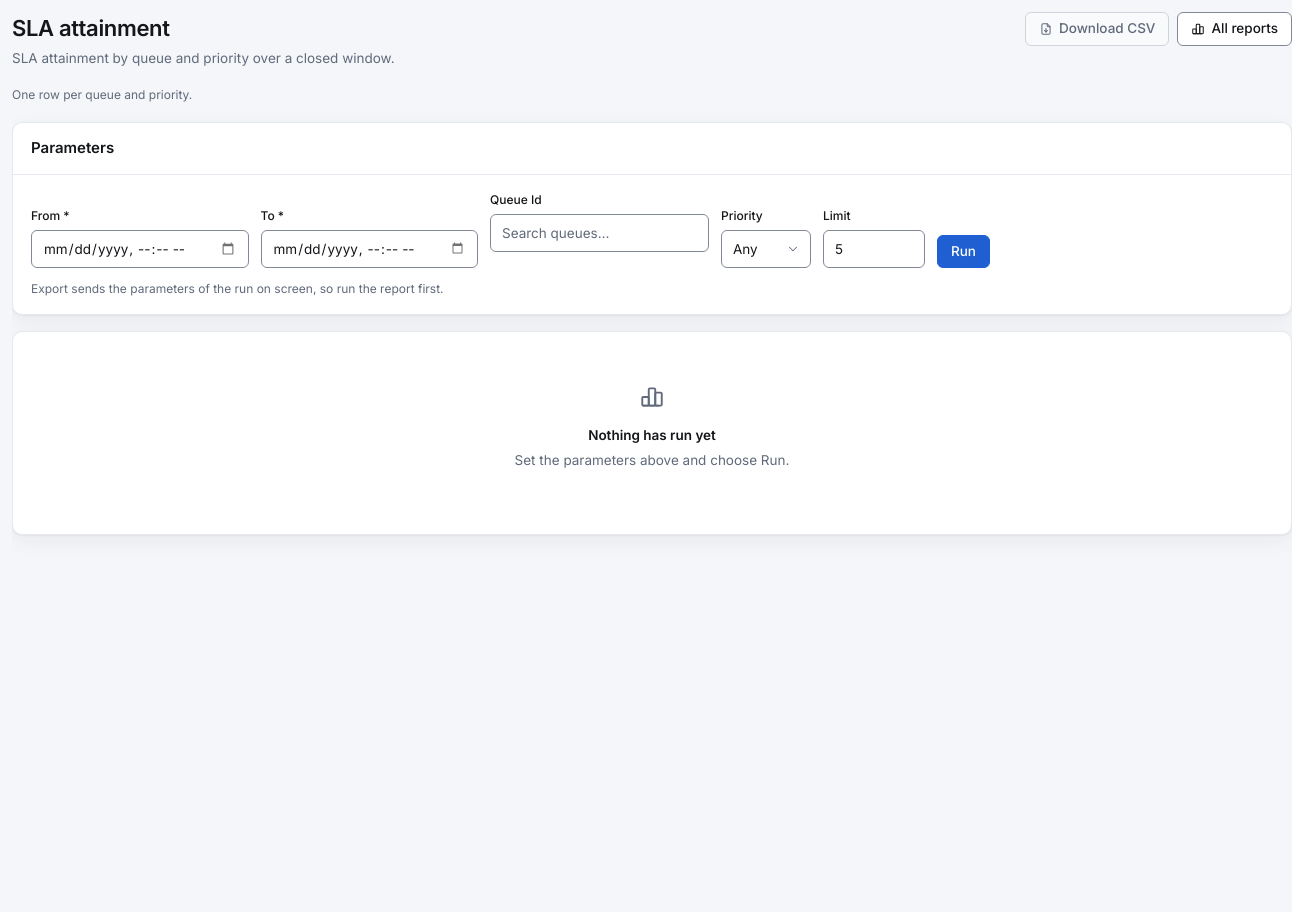
it: a report page › renders the staleness note IN ADDITION for a non-reproducible report
Type "2026-03-01T00:00" into the field labelled "From" at [140, 249], box [31, 230, 248, 268]
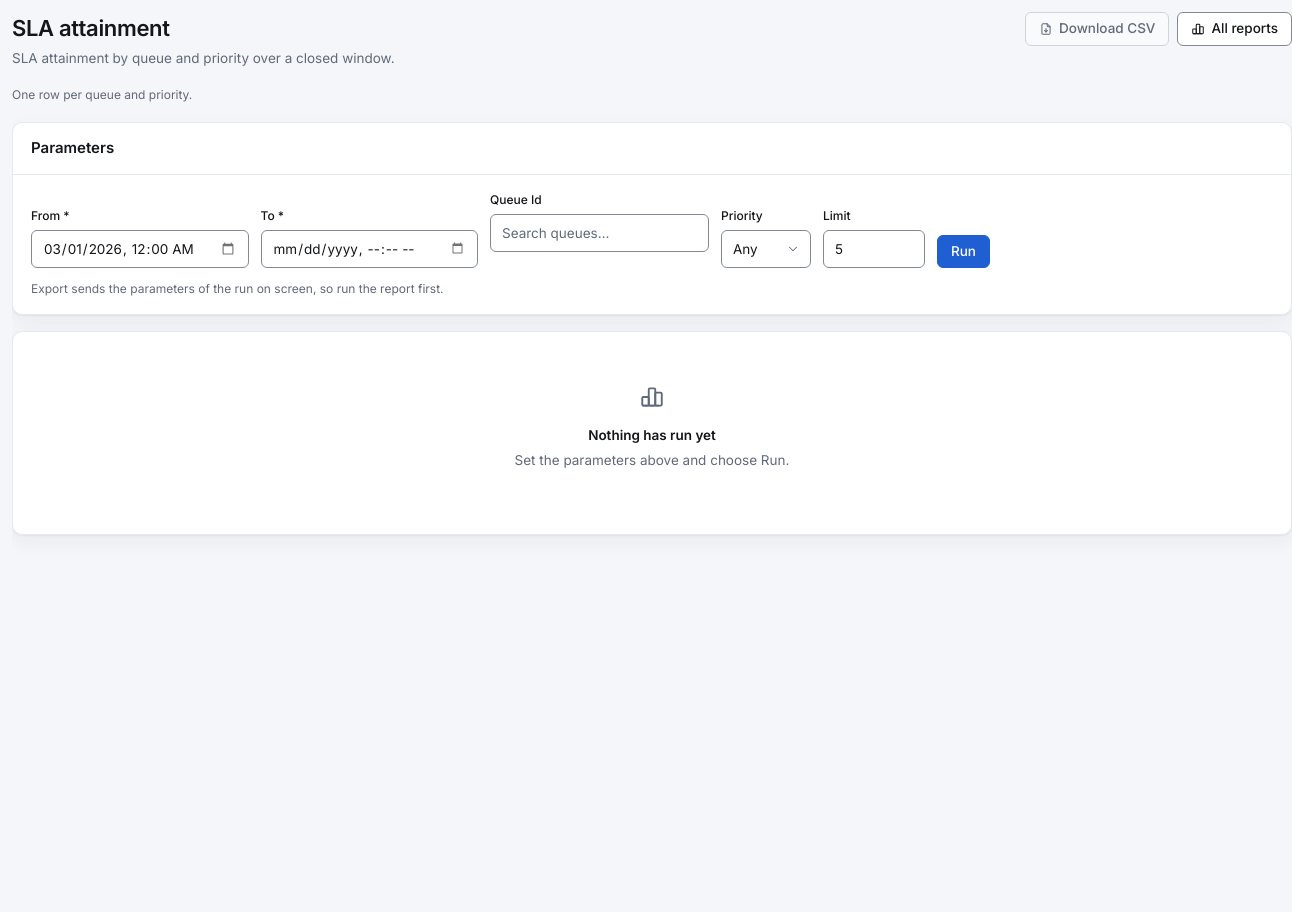
Type "2026-04-01T00:00" into the field labelled "To" at [369, 249], box [260, 230, 478, 268]
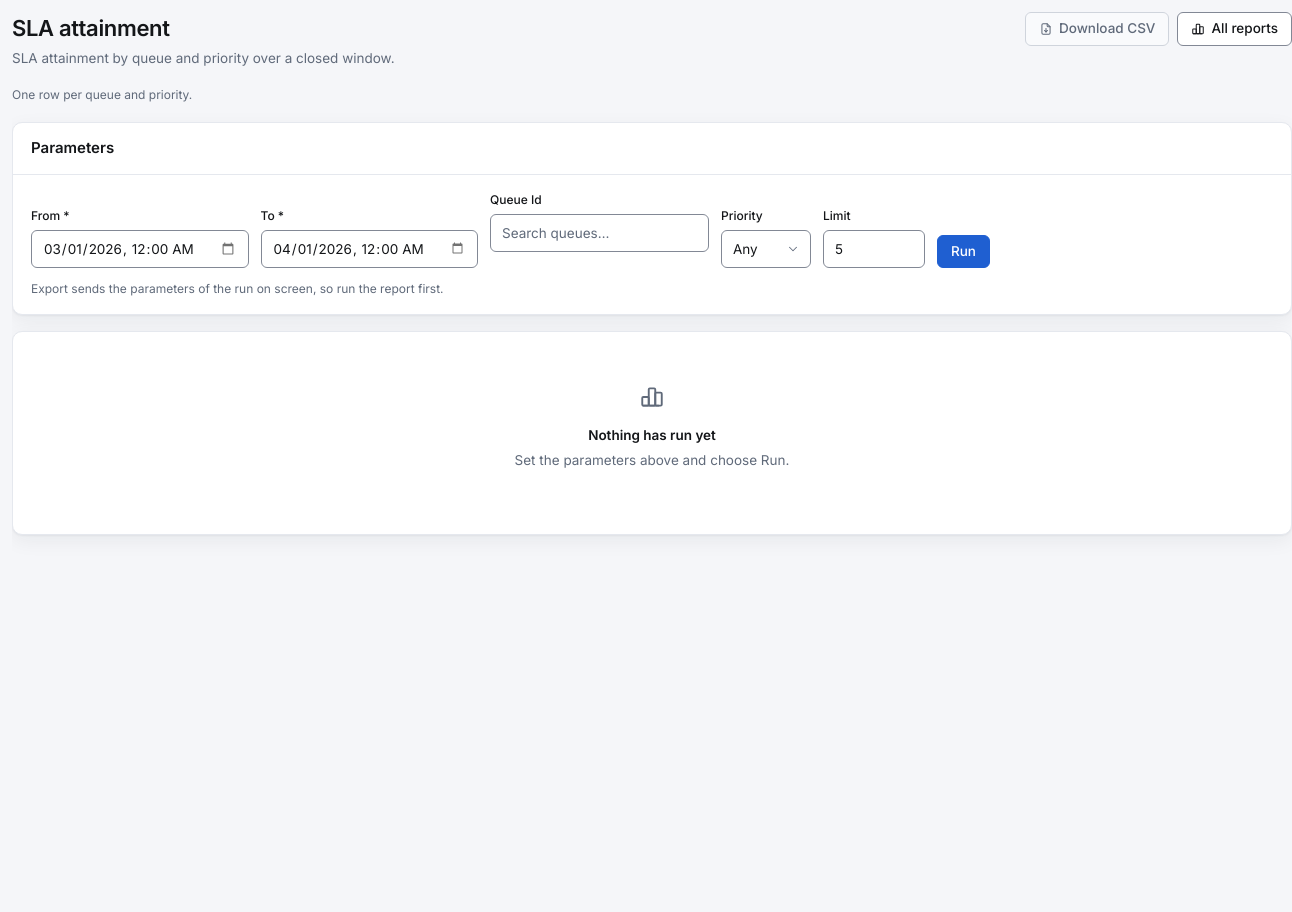
Click the button "Run" at [964, 251], box [937, 234, 990, 268]
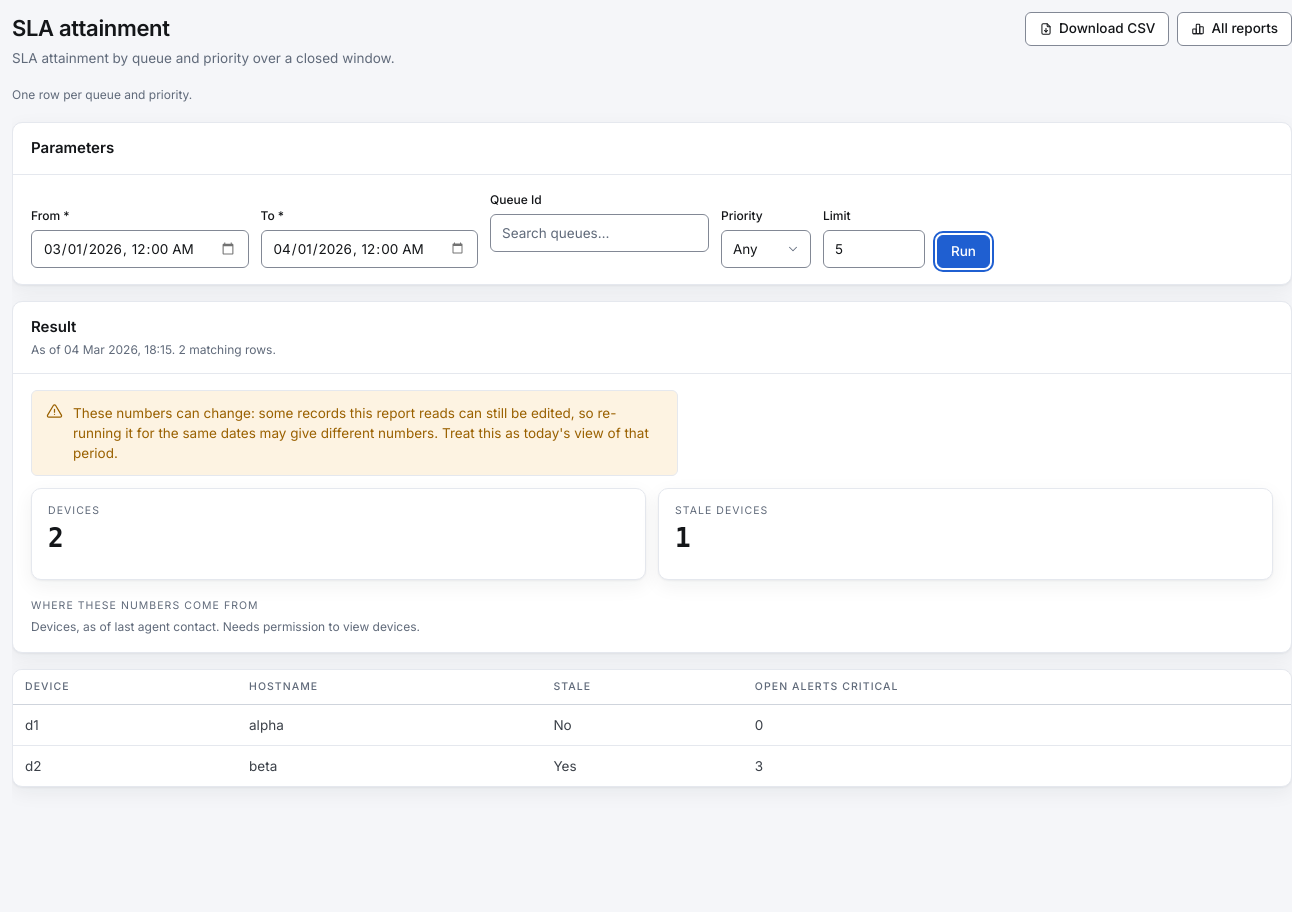
Check: the text "As of 04 Mar 2026, 18:15. 2 matching rows." is shown, box [31, 340, 276, 358]
Check: the text "These numbers can change" shows "re-running it for the same dates may give different numbers", box [73, 404, 649, 461]
